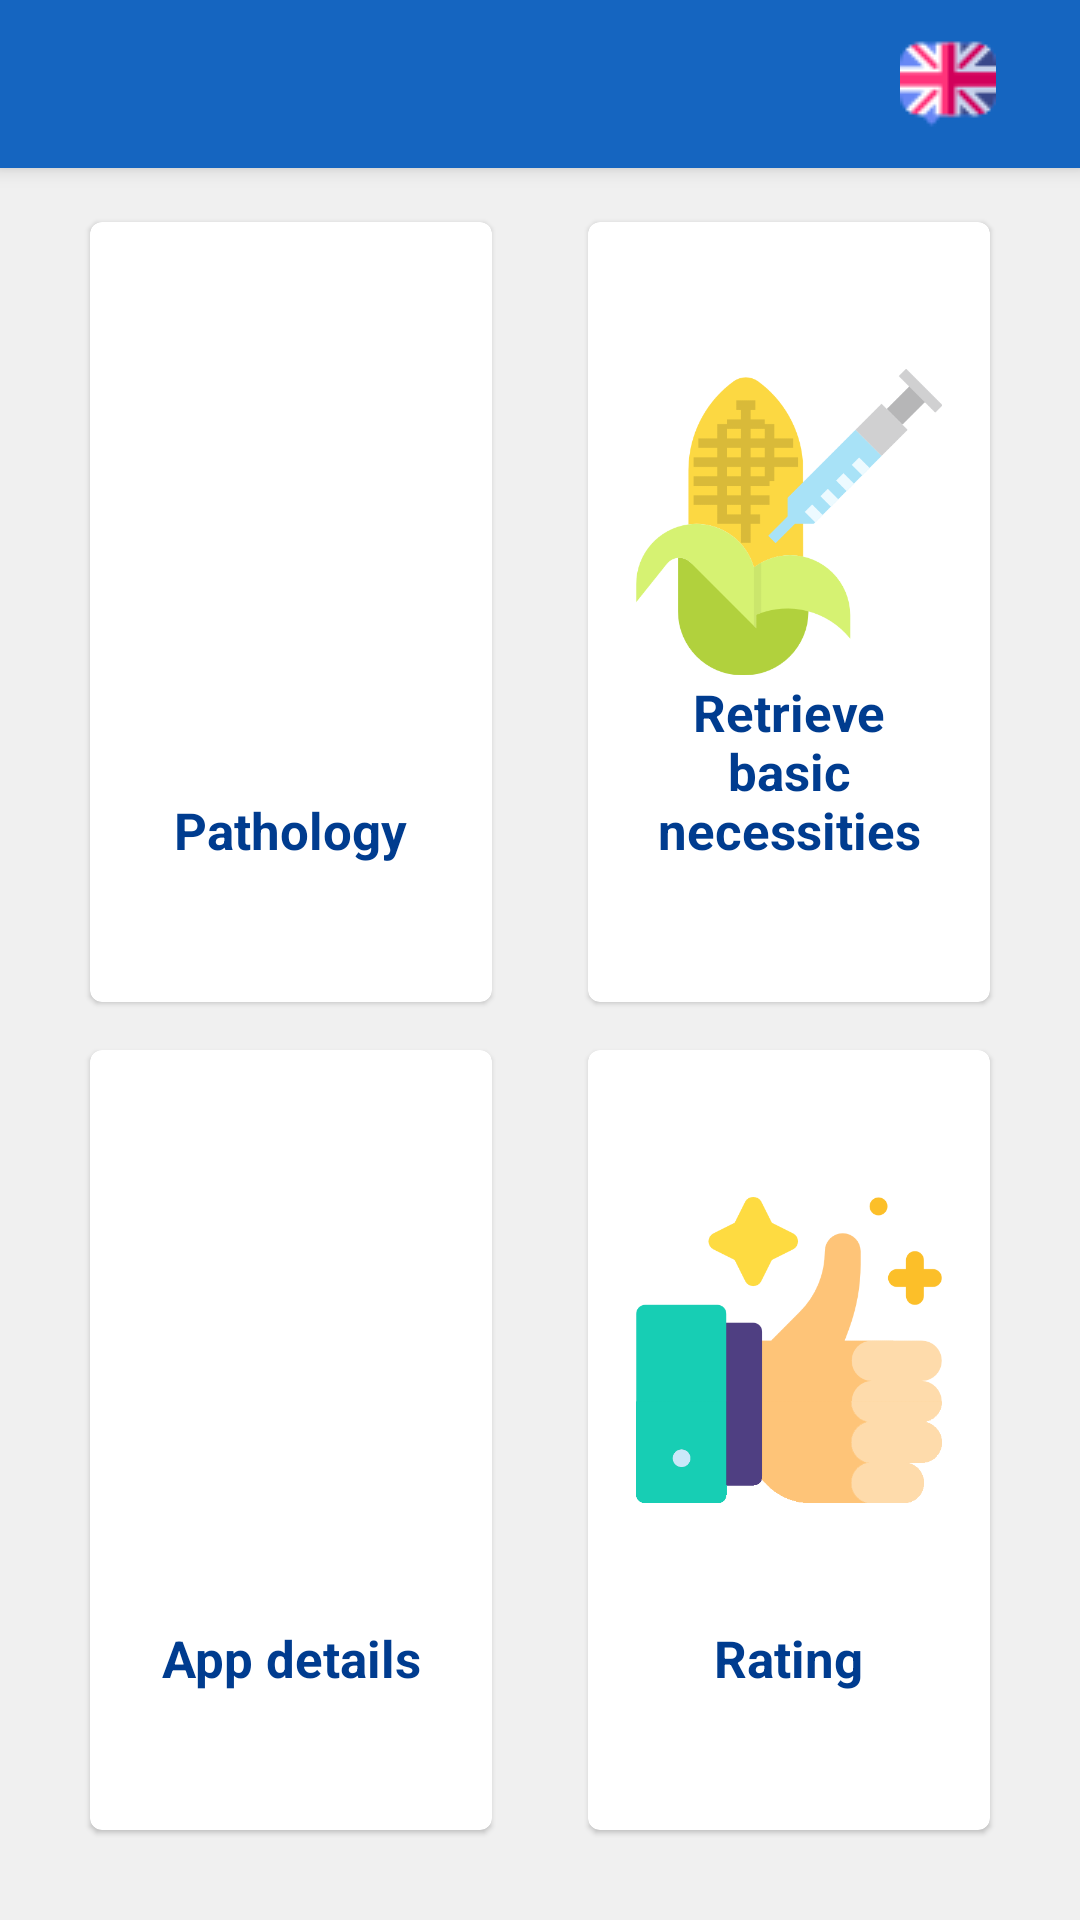

Icons on this 1080 x 1920 Android screen, each with the point to tap as [x,y]:
lang: [948,83]
